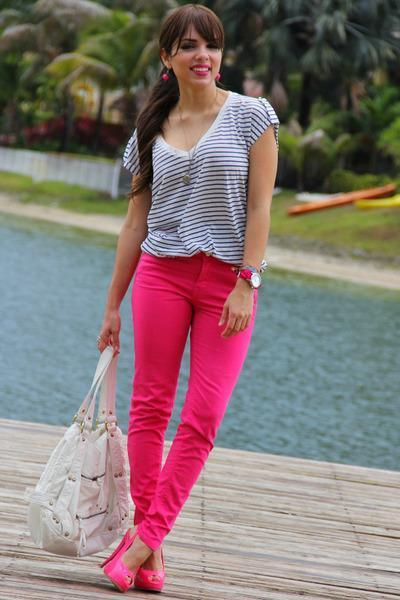bag: (21, 347, 130, 558)
pants: (127, 250, 253, 550)
shirt: (116, 91, 275, 259)
shoe: (103, 550, 167, 599)
